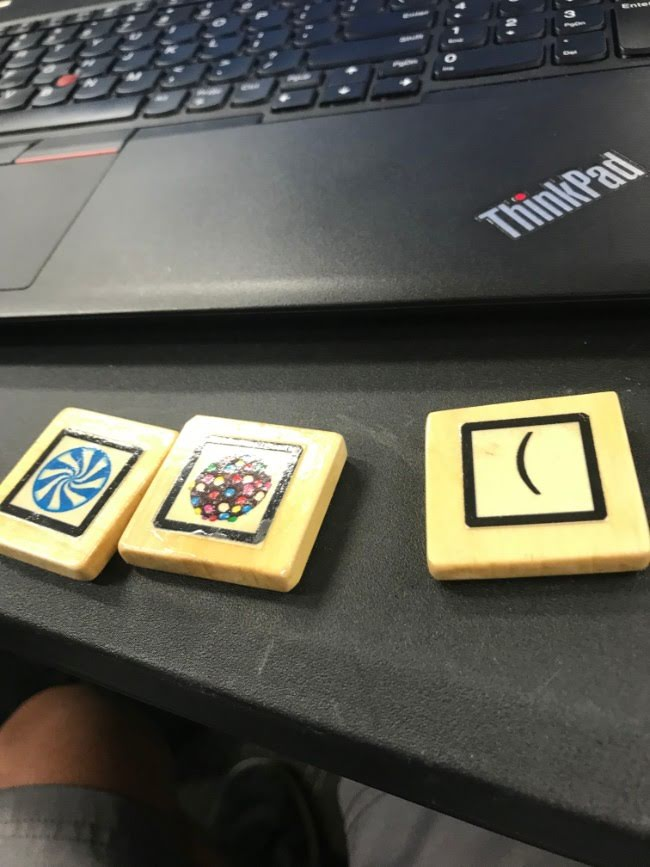cookie: (152, 435, 304, 544)
